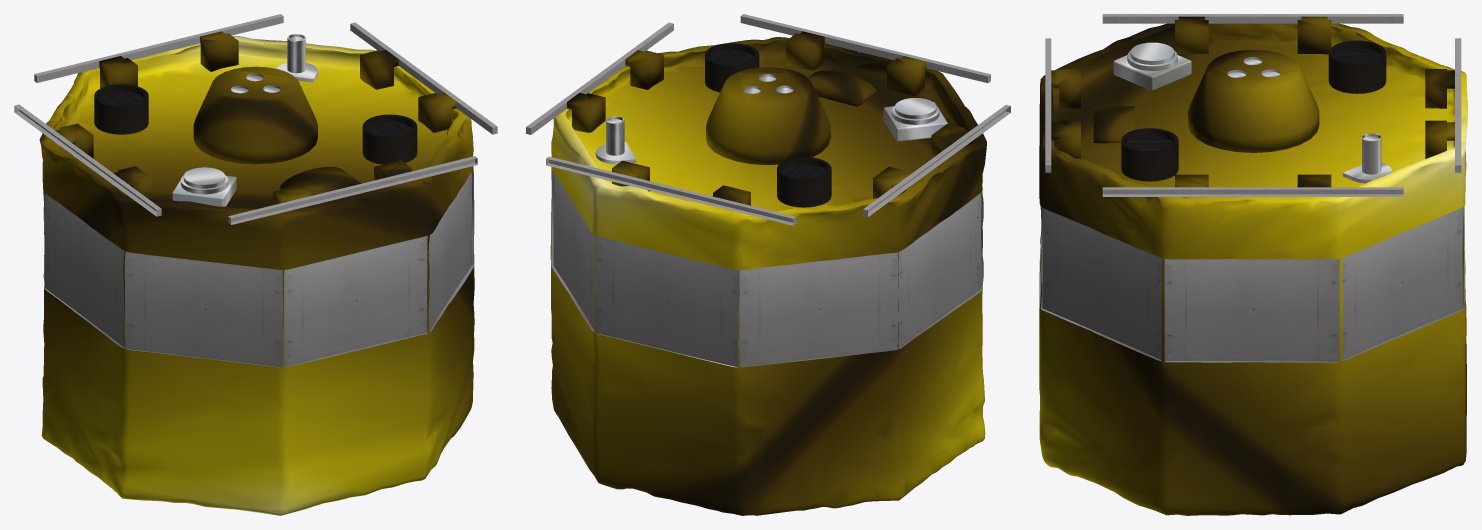
The model's file is Satellite Kit body 1.glb.
The picture shows the model from 3 angles, left to right: view 1: azimuth 30°, elevation 25°; view 2: azimuth 150°, elevation 25°; view 3: azimuth 270°, elevation 25°; orthographic projection. The views are drawn at different scales.
Visible parts, largest first — view 1: foil_gold, tex_01; view 2: foil_gold, tex_01; view 3: foil_gold, tex_01.
Part boxes in pixels (x1,y1,x2,y2): foil_gold: [39, 31, 474, 515]; tex_01: [14, 14, 497, 367]; foil_gold: [550, 31, 986, 515]; tex_01: [526, 14, 1010, 367]; foil_gold: [1039, 16, 1467, 515]; tex_01: [1039, 14, 1465, 362].
Size of the model in its own units: 0.7965 by 0.7335 by 0.7861.
2 materials, 2 textured.
